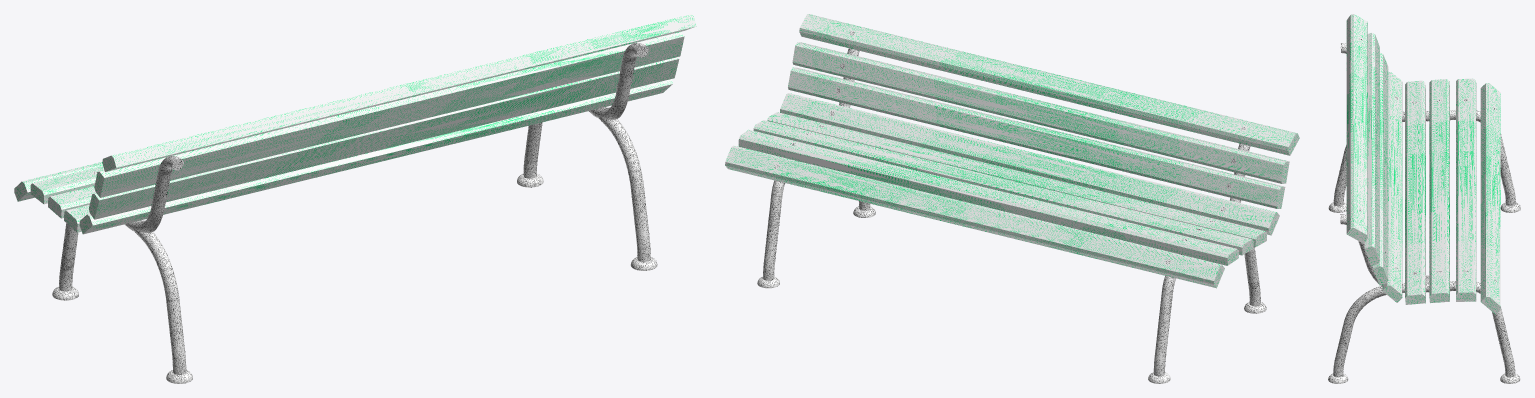
3 renders of one model, left to right at view 1: azimuth 30°, elevation 25°; view 2: azimuth 150°, elevation 25°; view 3: azimuth 270°, elevation 25°, orthographic. The views are drawn at different scales.
Visible parts, largest first — view 1: mesh9_mesh9-geometry, mesh8_mesh8-geometry, mesh10_mesh10-geometry, mesh7_mesh7-geometry, mesh1_mesh1-geometry, mesh2_mesh2-geometry, mesh4_mesh4-geometry, mesh5_mesh5-geometry, mesh3_mesh3-geometry; view 2: mesh3_mesh3-geometry, mesh10_mesh10-geometry, mesh9_mesh9-geometry, mesh8_mesh8-geometry, mesh7_mesh7-geometry, mesh4_mesh4-geometry, mesh5_mesh5-geometry, mesh6_mesh6-geometry, mesh1_mesh1-geometry, mesh2_mesh2-geometry; view 3: mesh10_mesh10-geometry, mesh6_mesh6-geometry, mesh5_mesh5-geometry, mesh4_mesh4-geometry, mesh3_mesh3-geometry, mesh7_mesh7-geometry, mesh9_mesh9-geometry, mesh2_mesh2-geometry, mesh8_mesh8-geometry, mesh1_mesh1-geometry.
Part boxes in pixels (x1,y1,x2,y2): mesh9_mesh9-geometry: [94, 32, 684, 197]; mesh8_mesh8-geometry: [89, 57, 679, 219]; mesh10_mesh10-geometry: [102, 14, 696, 171]; mesh7_mesh7-geometry: [79, 79, 672, 234]; mesh1_mesh1-geometry: [52, 156, 192, 383]; mesh2_mesh2-geometry: [517, 43, 657, 270]; mesh4_mesh4-geometry: [30, 166, 104, 204]; mesh5_mesh5-geometry: [48, 186, 95, 218]; mesh3_mesh3-geometry: [14, 162, 102, 201]; mesh3_mesh3-geometry: [725, 145, 1224, 288]; mesh10_mesh10-geometry: [799, 14, 1299, 155]; mesh9_mesh9-geometry: [792, 42, 1289, 183]; mesh8_mesh8-geometry: [788, 67, 1285, 208]; mesh7_mesh7-geometry: [780, 93, 1279, 235]; mesh4_mesh4-geometry: [738, 130, 1238, 265]; mesh5_mesh5-geometry: [753, 120, 1253, 255]; mesh6_mesh6-geometry: [767, 112, 1267, 247]; mesh1_mesh1-geometry: [1148, 143, 1266, 383]; mesh2_mesh2-geometry: [757, 48, 875, 288]; mesh10_mesh10-geometry: [1346, 14, 1367, 243]; mesh6_mesh6-geometry: [1405, 80, 1425, 304]; mesh5_mesh5-geometry: [1429, 79, 1449, 303]; mesh4_mesh4-geometry: [1456, 78, 1476, 301]; mesh3_mesh3-geometry: [1480, 83, 1500, 314]; mesh7_mesh7-geometry: [1382, 72, 1402, 302]; mesh9_mesh9-geometry: [1364, 33, 1379, 265]; mesh2_mesh2-geometry: [1328, 214, 1520, 383]; mesh8_mesh8-geometry: [1372, 52, 1388, 285]; mesh1_mesh1-geometry: [1328, 43, 1520, 212].
Bounding box in the file's own units: 0.8811 × 0.333 × 0.3357.
